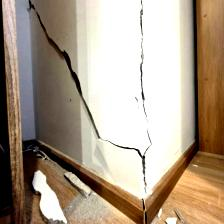High: (20, 1, 152, 224)
